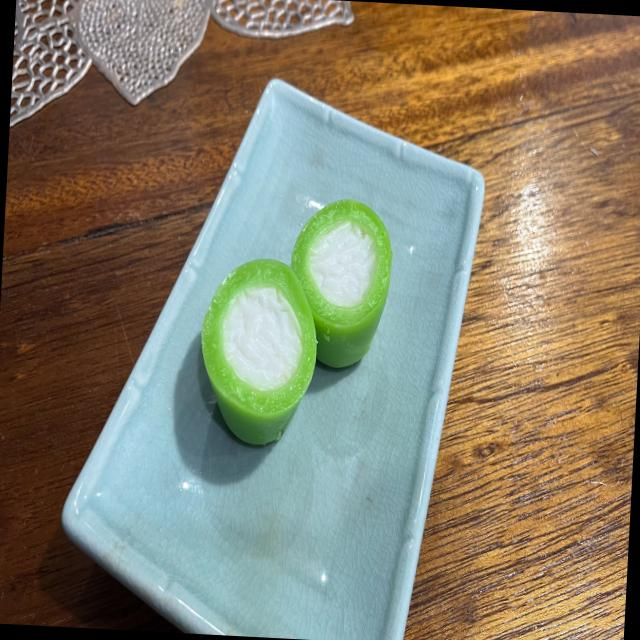nona-manis: (201, 257, 317, 447), (290, 196, 393, 371)
